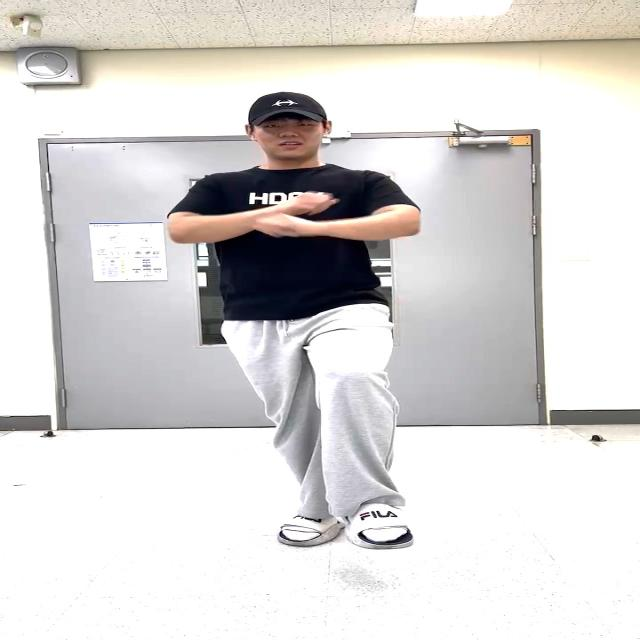leg: (314, 314, 424, 550)
